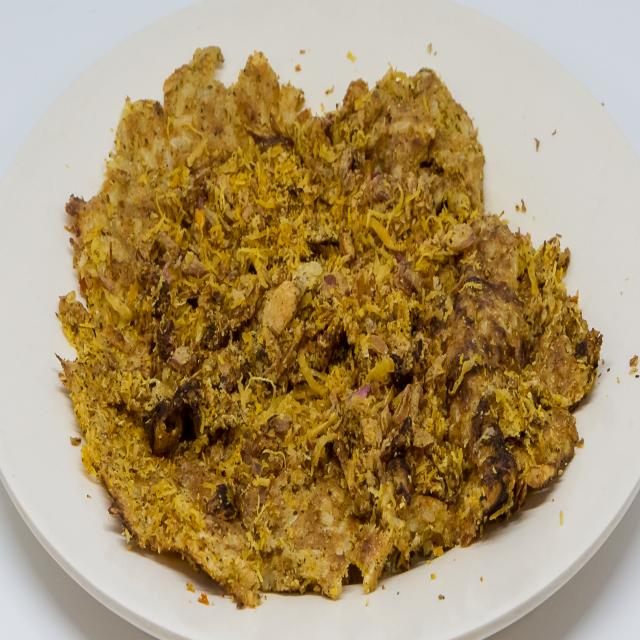Kerak-Telor: (47, 21, 608, 620)
